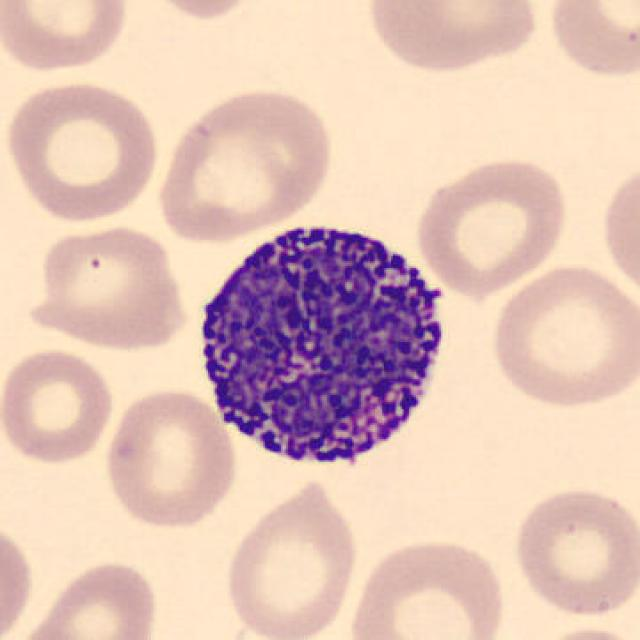Basophil: (181, 203, 464, 488)
RBC: (151, 83, 338, 245), (0, 76, 164, 224), (218, 474, 362, 640), (410, 152, 572, 296), (20, 220, 192, 352), (486, 261, 636, 411), (100, 384, 242, 532), (343, 532, 512, 640), (507, 483, 638, 621), (0, 343, 117, 467), (359, 0, 544, 78), (13, 557, 164, 640), (0, 0, 133, 76), (542, 0, 638, 83), (598, 155, 638, 305), (0, 516, 35, 640), (126, 0, 272, 23), (524, 622, 636, 640)
